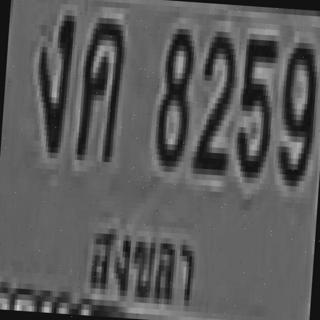A04: (75, 11, 124, 157)
A07: (32, 8, 74, 153)
N02: (190, 24, 235, 170)
N05: (232, 33, 277, 173)
N08: (154, 25, 193, 164)
N09: (274, 36, 316, 181)
P64: (84, 224, 202, 309)
